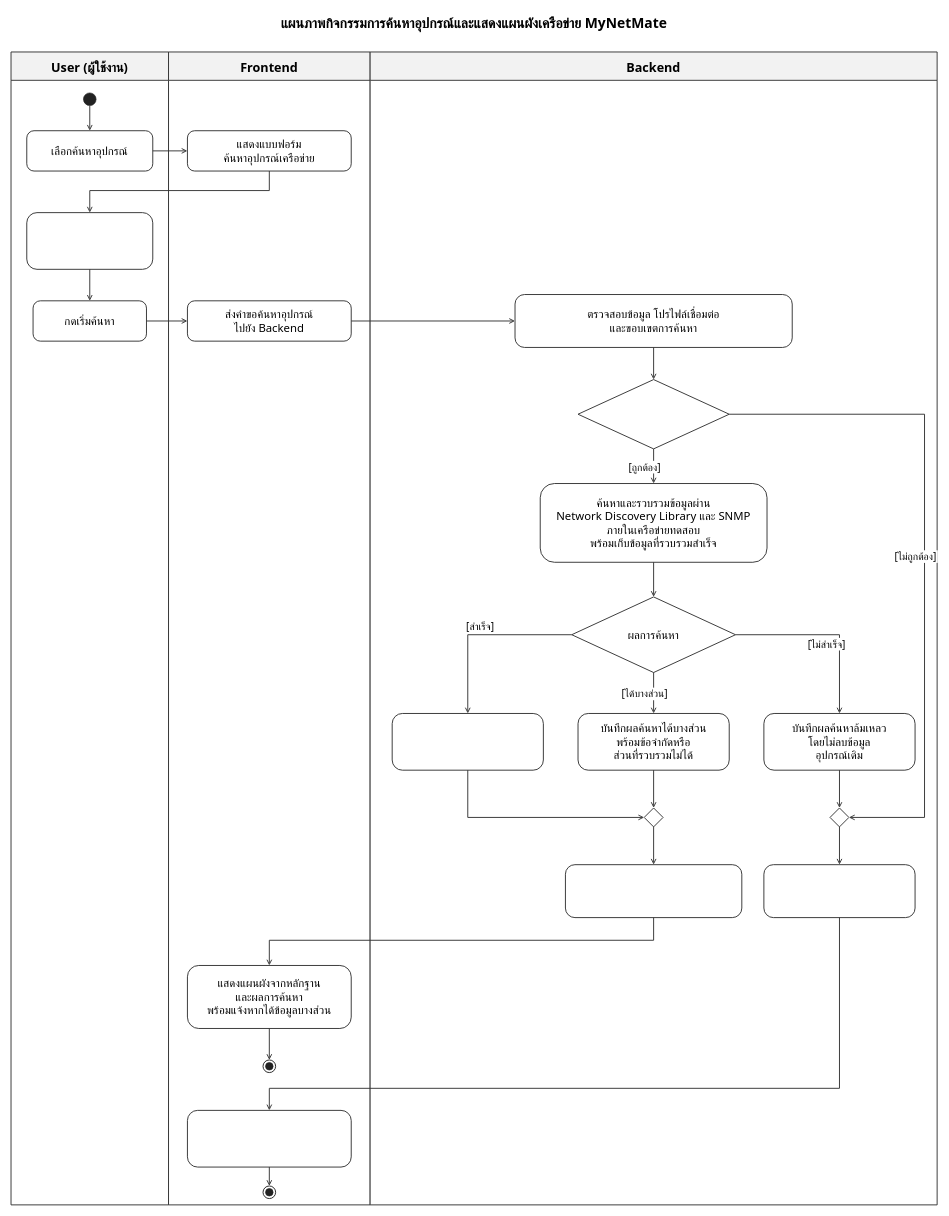
This 949x1216 diagram has some shape labels left out. Here are the shapes that lost their labels. From the top down, the centre of each, then its label:
At point (89, 241): "ระบุ IP อุปกรณ์เริ่มต้น และโปรไฟล์ข้อมูล สำหรับเชื่อมต่อ".
At point (653, 414): "ข้อมูลถูกต้อง?".
At point (467, 741): "บันทึกผลค้นหาสำเร็จ และข้อมูลความสัมพันธ์ ที่มีหลักฐานรองรับ".
At point (653, 891): "ส่งข้อมูลอุปกรณ์ ความสัมพันธ์ และผลการค้นหา".
At point (839, 891): "ส่งข้อความแจ้งข้อผิดพลาด".
At point (269, 1138): "แสดงข้อความแจ้งข้อผิดพลาด ให้ตรวจสอบเป้าหมาย หรือการเชื่อมต่ออีกครั้ง".
